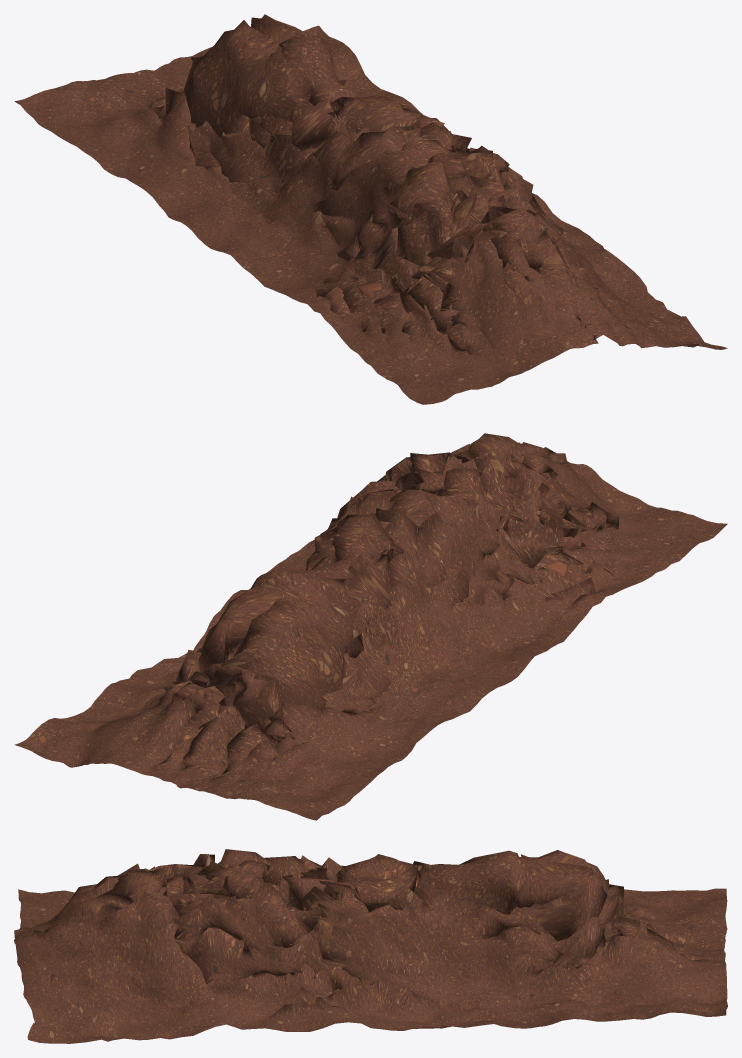
File: TanahKub2.fbx
3 renders of one model, top to bottom at view 1: azimuth 30°, elevation 25°; view 2: azimuth 150°, elevation 25°; view 3: azimuth 270°, elevation 25°, orthographic. The views are drawn at different scales.
Visible parts, largest first — view 1: Plane.012; view 2: Plane.012; view 3: Plane.012.
Boxes of the visible parts, <box> form: Plane.012: <box>14,14,727,404</box>; Plane.012: <box>14,433,727,820</box>; Plane.012: <box>14,849,727,1043</box>.
Size of the model in its own units: 568 by 264 by 1302.
